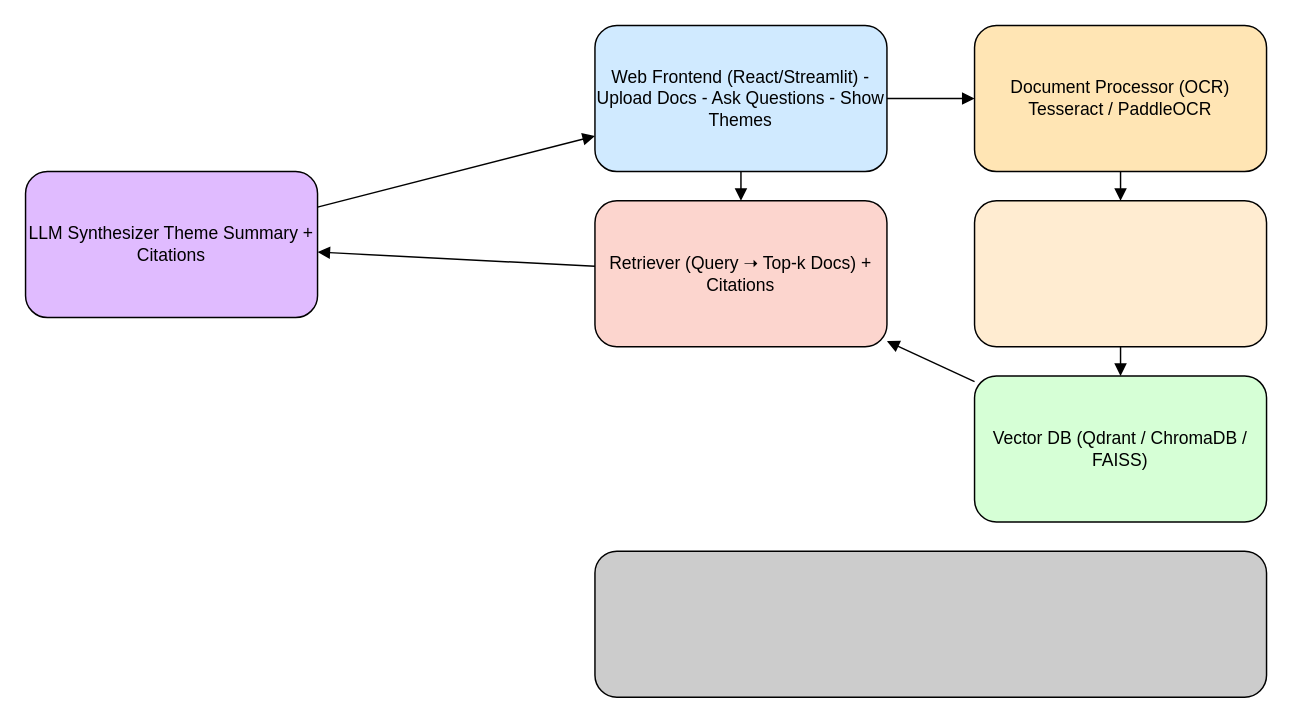
This 1292x723 diagram has some shape labels left out. Here are the shapes that lost their labels. From the top down, the centre of each, then its label:
At [1120,273]: "Embedding Generator (OpenAI / LLaMA / Gemini)".
At [930,623]: "FastAPI Backend - Upload, Query APIs - Retrieval, OCR, Citation Mapping".
